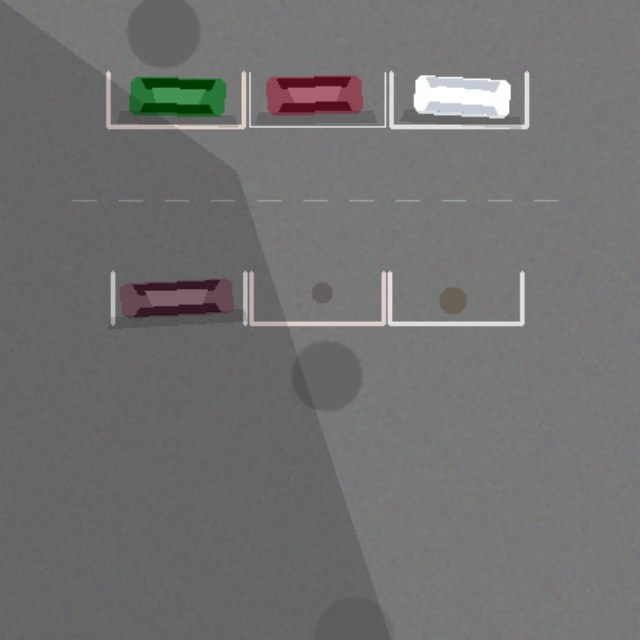space-empty: (389, 272, 522, 323), (251, 272, 383, 323)
space-occupied: (249, 72, 385, 126), (108, 72, 243, 126), (391, 72, 526, 126), (112, 272, 245, 323)
